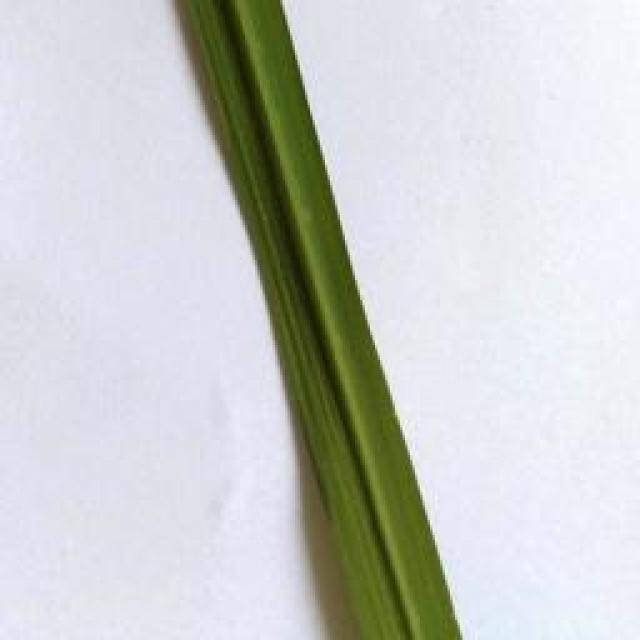Healthy-Plant: (198, 0, 457, 637)
